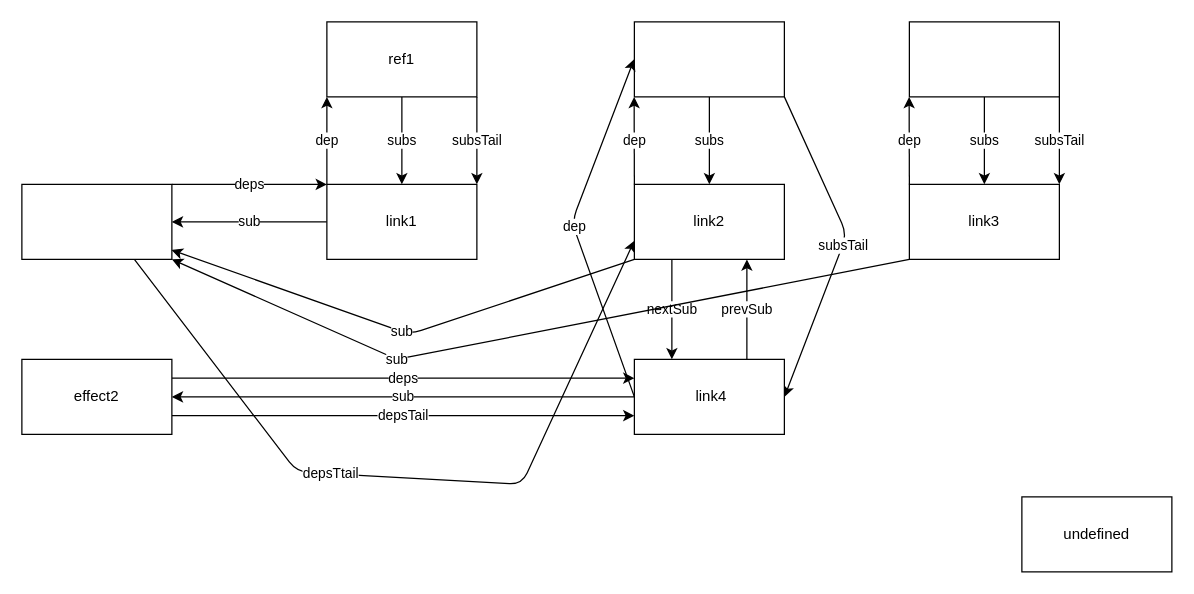
Some shapes in this 1194 by 594 pixel diagram are drawn without their labels. Here are the shapes that lost their labels. From the top down, the centre of each, then its label:
At (708,59): "ref2".
At (983,59): "ref3".
At (96,221): "effect1".
